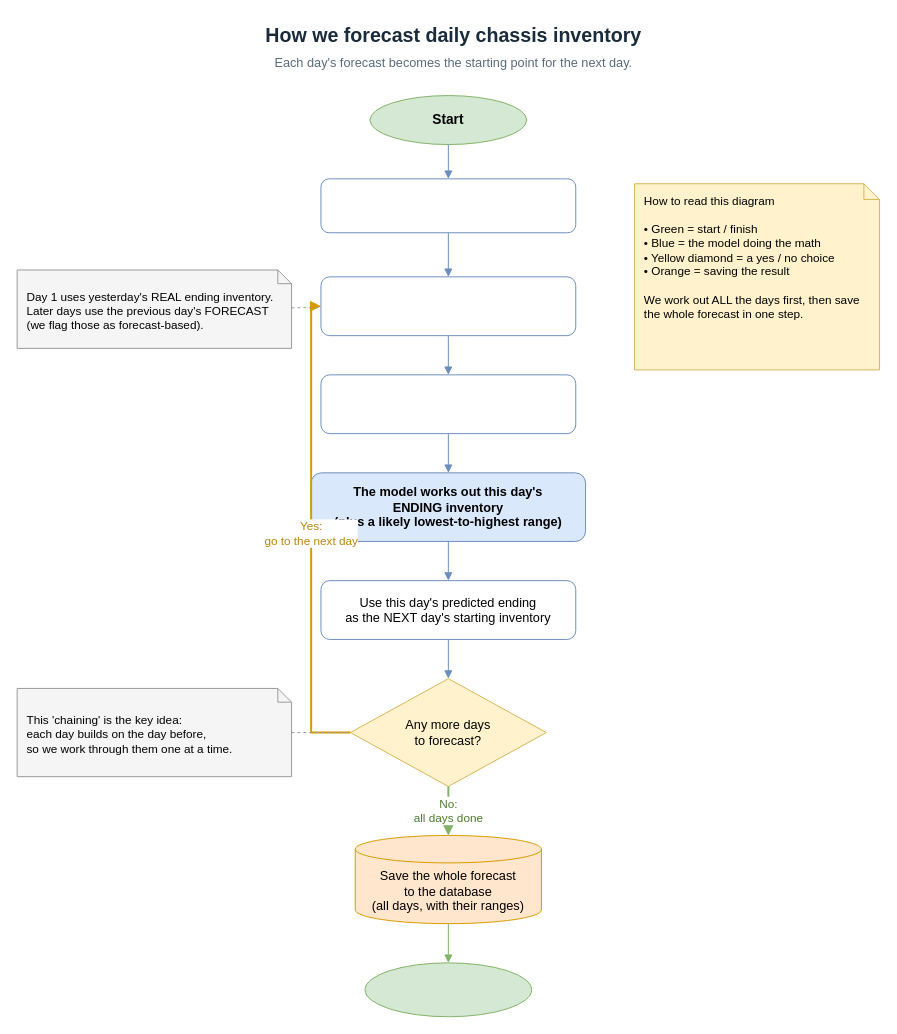
This 897x1034 diagram has some shape labels left out. The shapes that lost their labels are listed below. From the top down, each one's centre as x and y in pixels, then its label:
At pixel 448 205: "Take yesterday's known ending inventory as our starting number".
At pixel 448 306: "Set the STARTING inventory for this day".
At pixel 448 404: "Add the other things we expect that day (for example, vessel arrivals)".
At pixel 448 989: "Done Ready for the dashboard".
